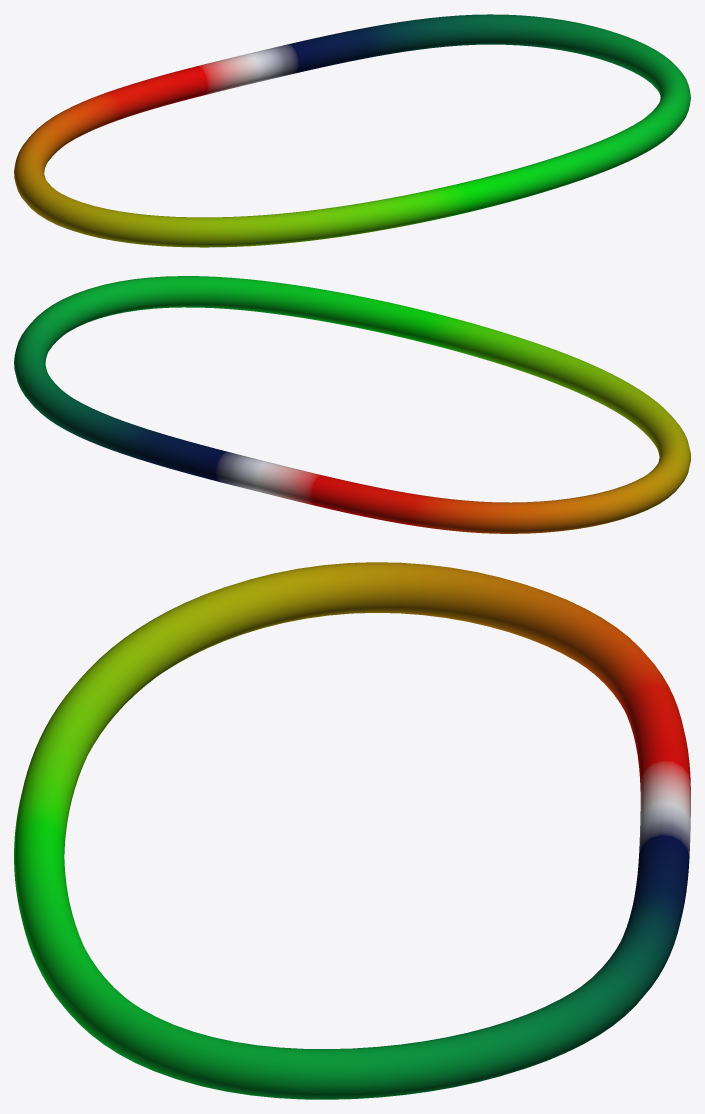
3 views of the same model, one above another, from view 1: azimuth 30°, elevation 25°; view 2: azimuth 150°, elevation 25°; view 3: azimuth 270°, elevation 25° (orthographic). The views are drawn at different scales.
Parts seen in each view (by area): view 1: default_track; view 2: default_track; view 3: default_track.
Boxes of the visible parts, x1=… form: default_track: x1=14, y1=14, x2=690, y2=247; default_track: x1=14, y1=276, x2=690, y2=533; default_track: x1=14, y1=562, x2=690, y2=1099.
Bounding box in the file's own units: 473 × 19.89 × 266.
